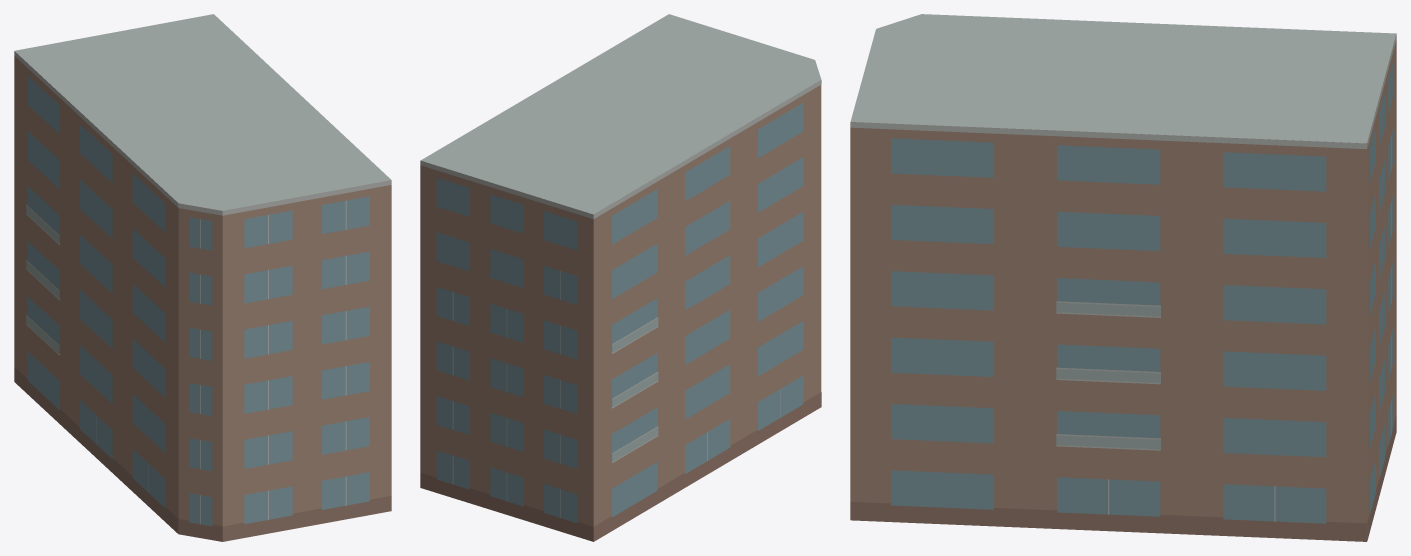
Rendered from survey-upis-32961172.glb.
3 views of the same model, side by side, from view 1: azimuth 30°, elevation 25°; view 2: azimuth 150°, elevation 25°; view 3: azimuth 270°, elevation 25° (orthographic). The views are drawn at different scales.
Visible parts, largest first — view 1: survey-upis-32961172.tmp; view 2: survey-upis-32961172.tmp; view 3: survey-upis-32961172.tmp.
Part boxes in pixels (x1=…): survey-upis-32961172.tmp: x1=14, y1=14, x2=391, y2=541; survey-upis-32961172.tmp: x1=420, y1=14, x2=821, y2=541; survey-upis-32961172.tmp: x1=850, y1=14, x2=1396, y2=541.
Size of the model in its own units: 11.86 by 17 by 21.13.
